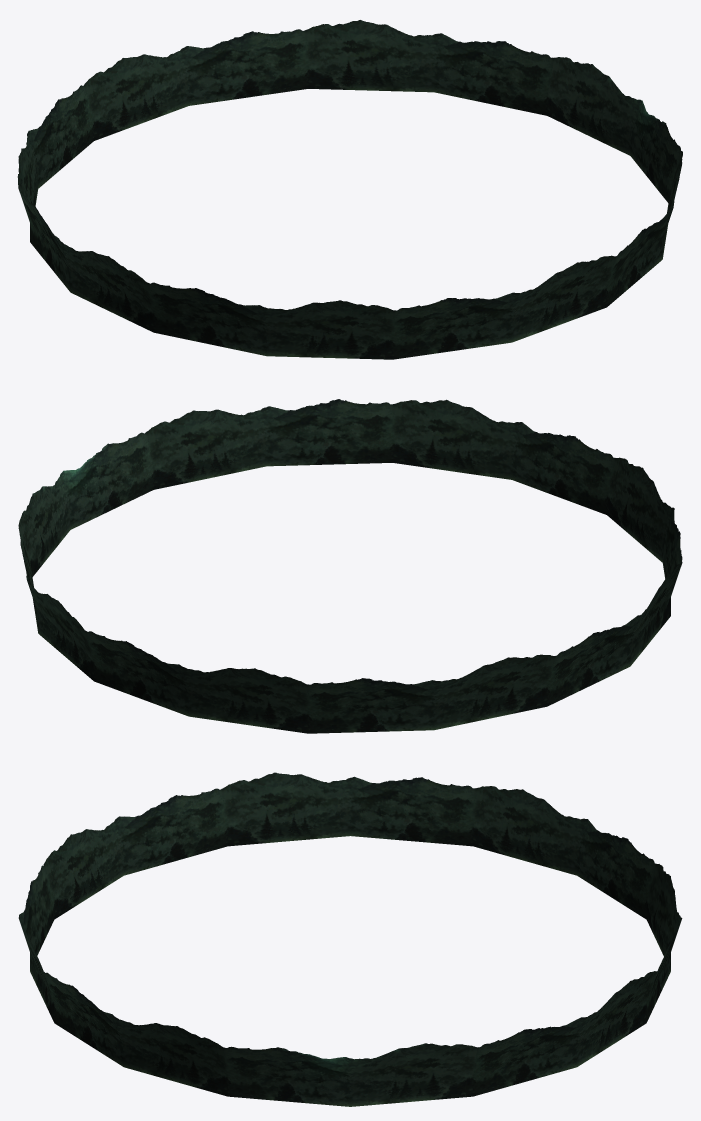
The model's file is FarBackground.fbx.
The picture shows the model from 3 angles, top to bottom: view 1: azimuth 30°, elevation 25°; view 2: azimuth 150°, elevation 25°; view 3: azimuth 270°, elevation 25°; orthographic projection.
Parts seen in each view (by area): view 1: 0000_SM_d_114_Far_01a, 0001_SM_d_114_Far_01a; view 2: 0000_SM_d_114_Far_01a, 0001_SM_d_114_Far_01a; view 3: 0000_SM_d_114_Far_01a, 0001_SM_d_114_Far_01a.
Boxes of the visible parts, box(x1,y1,x2,y2) form: 0000_SM_d_114_Far_01a: box(17, 20, 682, 359); 0001_SM_d_114_Far_01a: box(547, 57, 682, 202); 0000_SM_d_114_Far_01a: box(18, 399, 682, 733); 0001_SM_d_114_Far_01a: box(18, 432, 153, 576); 0000_SM_d_114_Far_01a: box(18, 772, 682, 1096); 0001_SM_d_114_Far_01a: box(223, 1043, 477, 1106).
Size of the model in its own units: 357 by 39.38 by 357.
